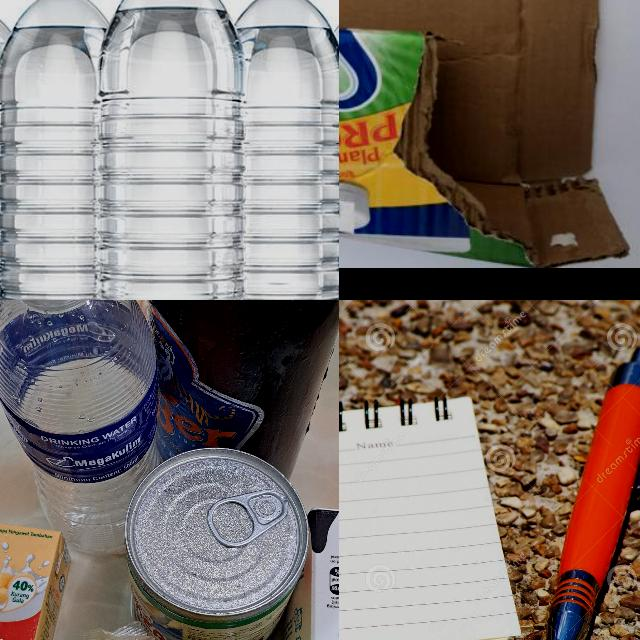aba de lata: (206, 490, 290, 548)
caixinha: (0, 516, 71, 640), (275, 508, 339, 640)
garrafa de vidro: (146, 300, 339, 484)
garrafa plástica: (93, 0, 242, 300), (0, 300, 157, 557), (0, 0, 113, 300), (231, 0, 339, 300)
lata: (124, 448, 307, 640)
papel: (339, 391, 523, 640)
papelão: (339, 0, 632, 267)
